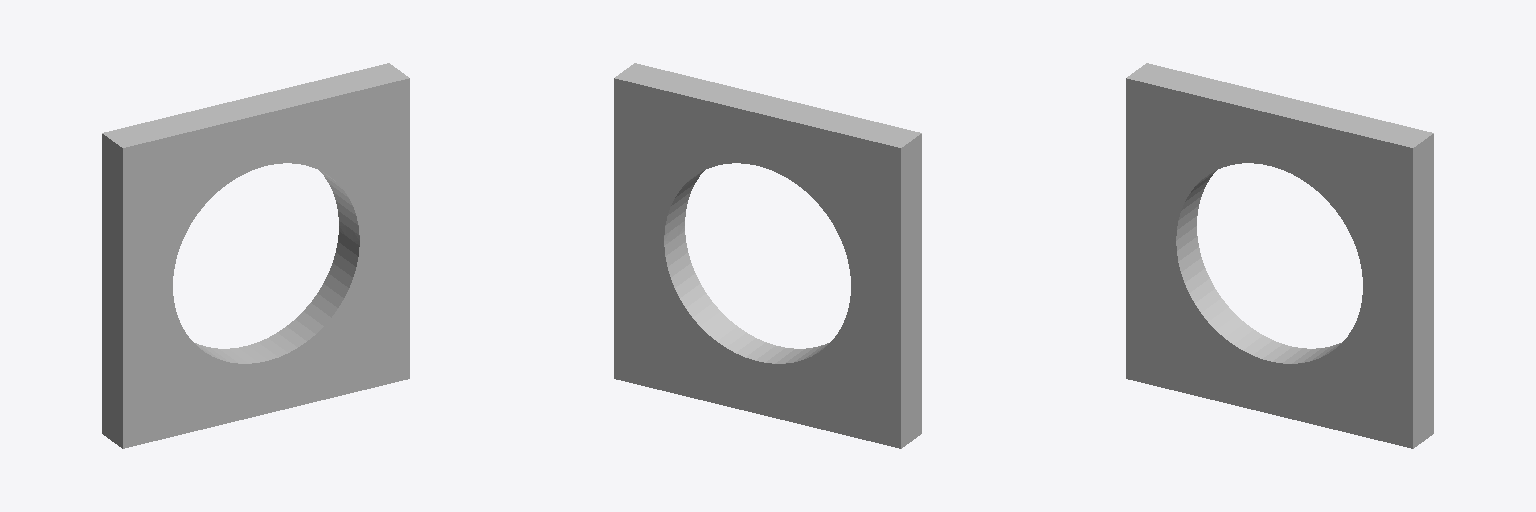
The model's file is round_hole_2in_sim_loose.obj.
3 views of the same model, side by side, from view 1: azimuth 30°, elevation 25°; view 2: azimuth 150°, elevation 25°; view 3: azimuth 330°, elevation 25° (orthographic).
Bounding box in the file's own units: 80 × 80 × 10.